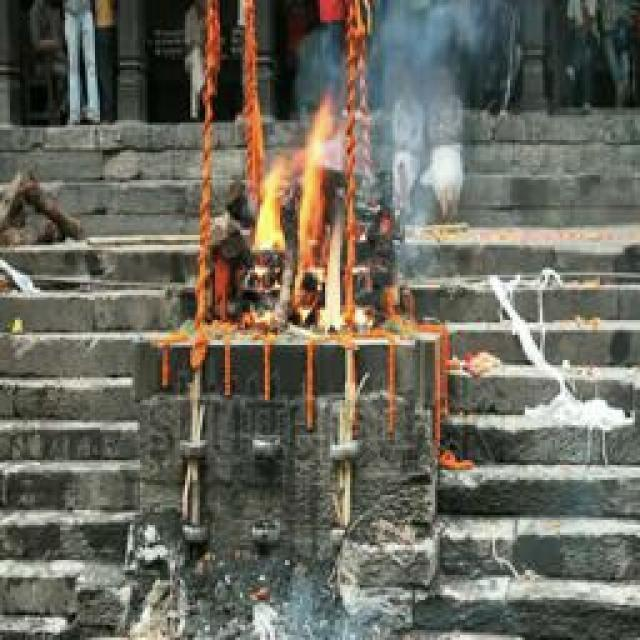Fire: (253, 121, 348, 331)
